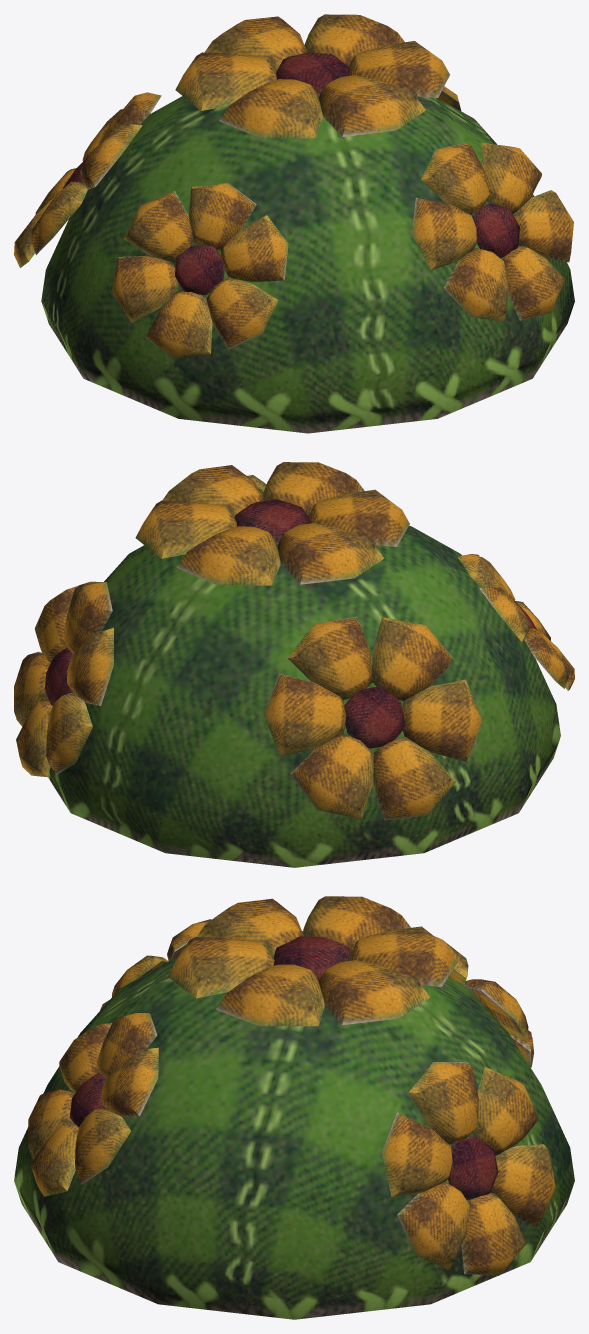
Rendered from lpb_cs_plant1.fbx.
3 views of the same model, one above another, from view 1: azimuth 30°, elevation 25°; view 2: azimuth 150°, elevation 25°; view 3: azimuth 270°, elevation 25° (orthographic). The views are drawn at different scales.
Visible parts, largest first — view 1: lpb_cs_plant1; view 2: lpb_cs_plant1; view 3: lpb_cs_plant1.
Part boxes in pixels (bbox=[...]): lpb_cs_plant1: bbox=[14, 14, 574, 433]; lpb_cs_plant1: bbox=[14, 462, 574, 867]; lpb_cs_plant1: bbox=[14, 896, 574, 1319].
Bounding box in the file's own units: 66.87 × 36.58 × 66.87.
